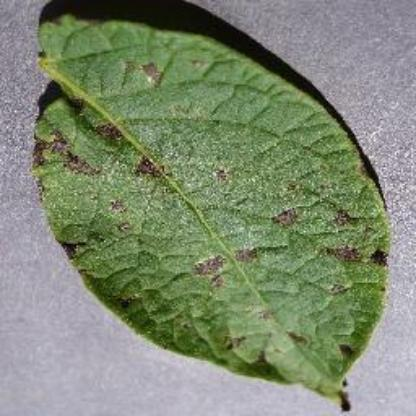Early-Blight: (29, 10, 393, 404)
